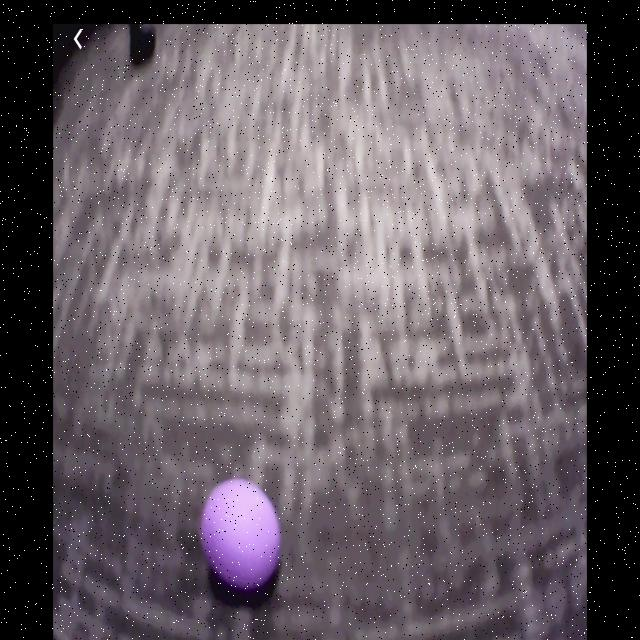ball: (203, 480, 284, 590)
